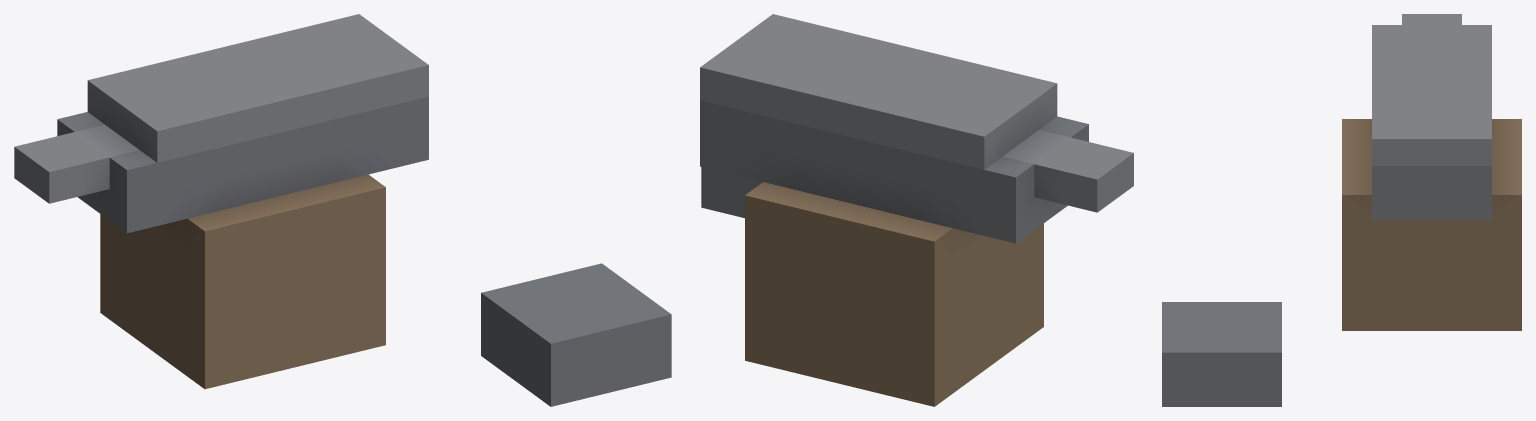
File: forge.glb
3 renders of one model, left to right at view 1: azimuth 30°, elevation 25°; view 2: azimuth 150°, elevation 25°; view 3: azimuth 270°, elevation 25°, orthographic. The views are drawn at different scales.
Visible parts, largest first — view 1: geometry_0; view 2: geometry_0; view 3: geometry_0.
Boxes of the visible parts, <box> form: geometry_0: <box>14,14,671,406</box>; geometry_0: <box>700,14,1133,406</box>; geometry_0: <box>1162,14,1521,406</box>.
Bounding box in the file's own units: 2 × 1 × 1.5.
